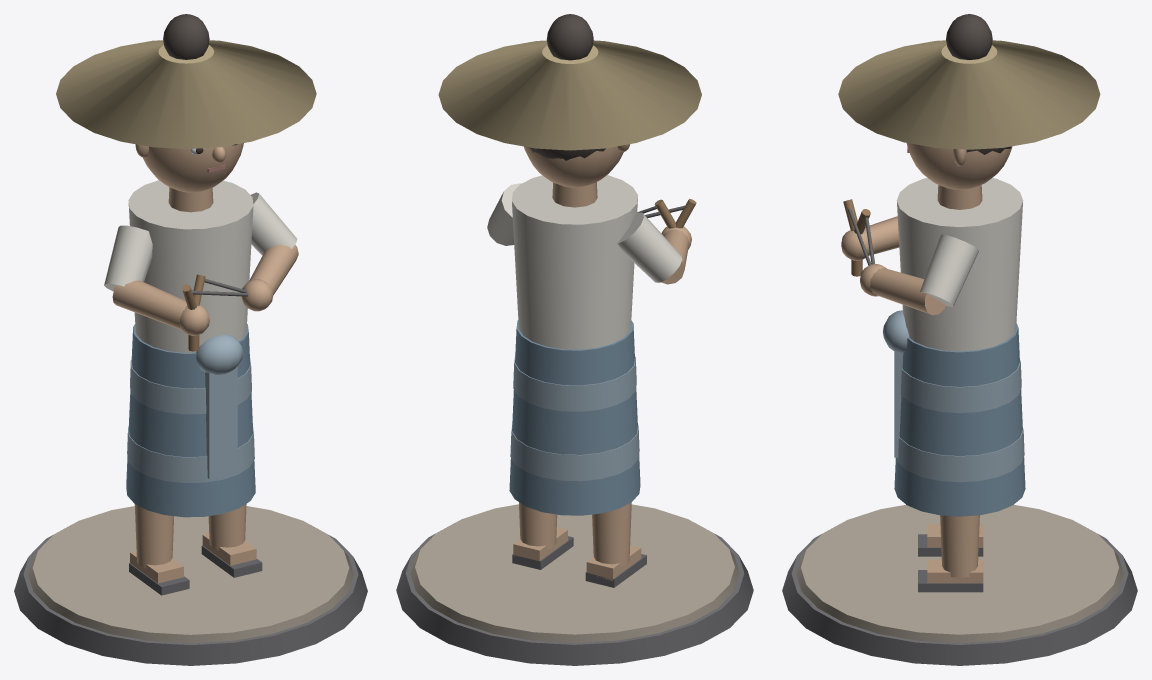
File: 1_child_cowherd_character.glb
3 views of the same model, side by side, from view 1: azimuth 30°, elevation 25°; view 2: azimuth 150°, elevation 25°; view 3: azimuth 270°, elevation 25° (orthographic).
Parts seen in each view (by area): view 1: Character; view 2: Character; view 3: Character.
Boxes of the visible parts, bbox=[...] form: Character: bbox=[14, 14, 367, 665]; Character: bbox=[396, 14, 753, 665]; Character: bbox=[782, 14, 1137, 665].
Size of the model in its own units: 0.76 by 1.35 by 0.76.
